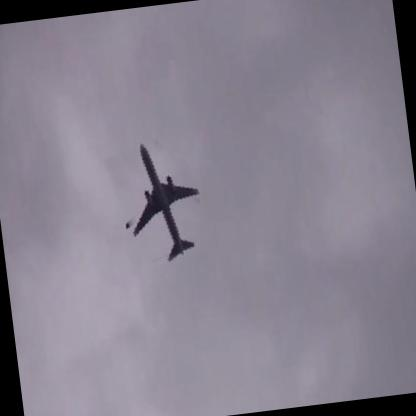plane: (107, 131, 214, 269)
